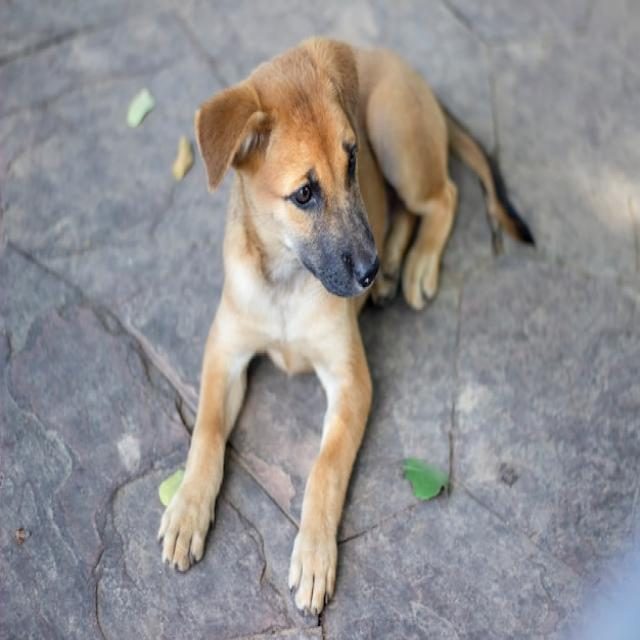laying down: (152, 32, 538, 623)
